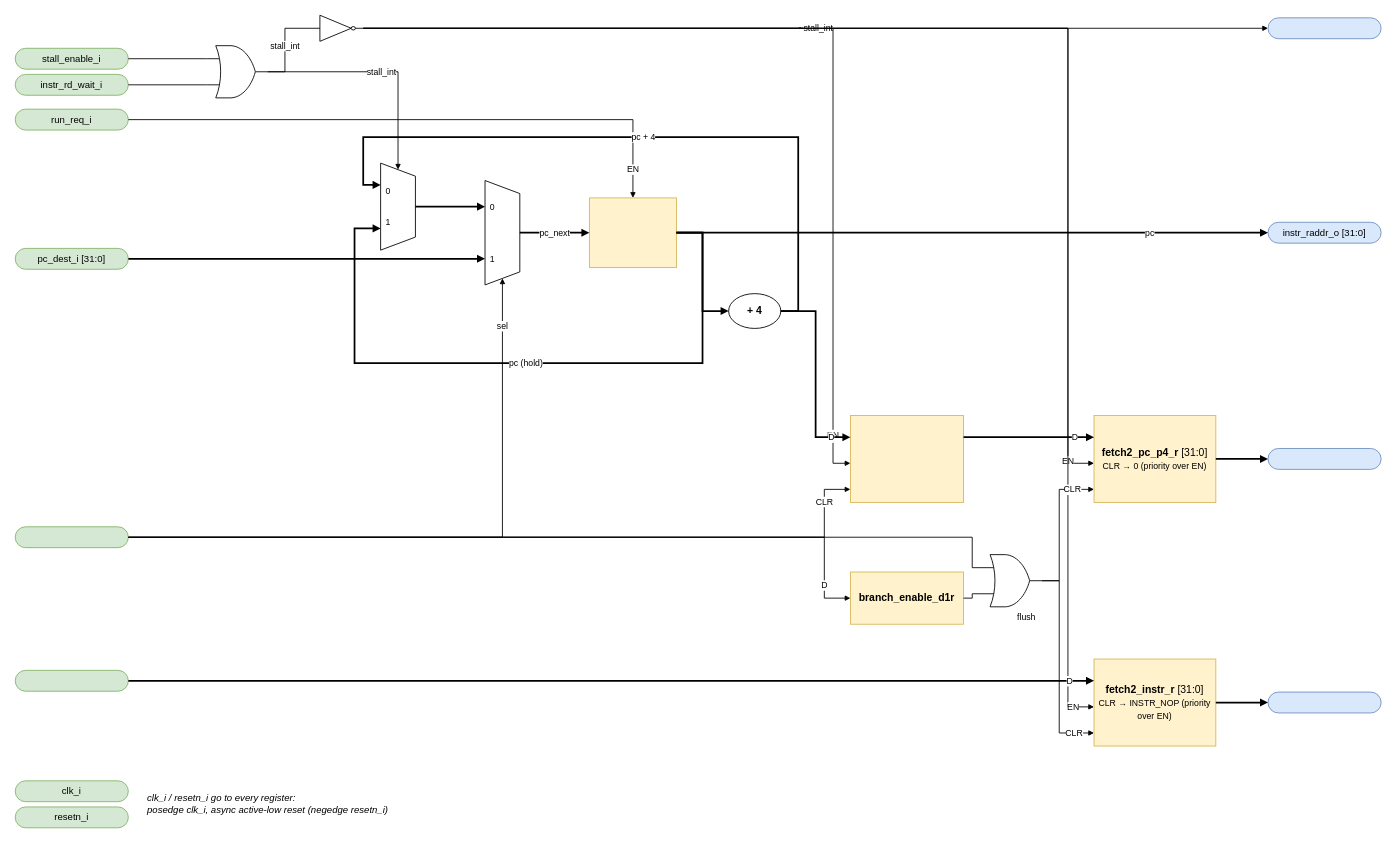
The diagram is 1396 pixels wide and 843 high, and some of its shapes have lost their labels. The shapes that lost their labels are listed below. From the top down, each one's box as (x1, y1, x2, y2) in pixels, then its label:
(1267, 17, 1381, 39): instr_rd_en_o
(589, 197, 676, 268): pc [31:0] reset: PC_INIT
(850, 415, 964, 502): fetch1_pc_p4_r [31:0] CLR → 0 (priority over EN)
(1267, 448, 1381, 469): pc_p4_reg_o [31:0]
(14, 526, 128, 548): branch_enable_i
(14, 669, 128, 691): instr_rdata_i [31:0]
(1267, 691, 1381, 713): instr_reg_o [31:0]
